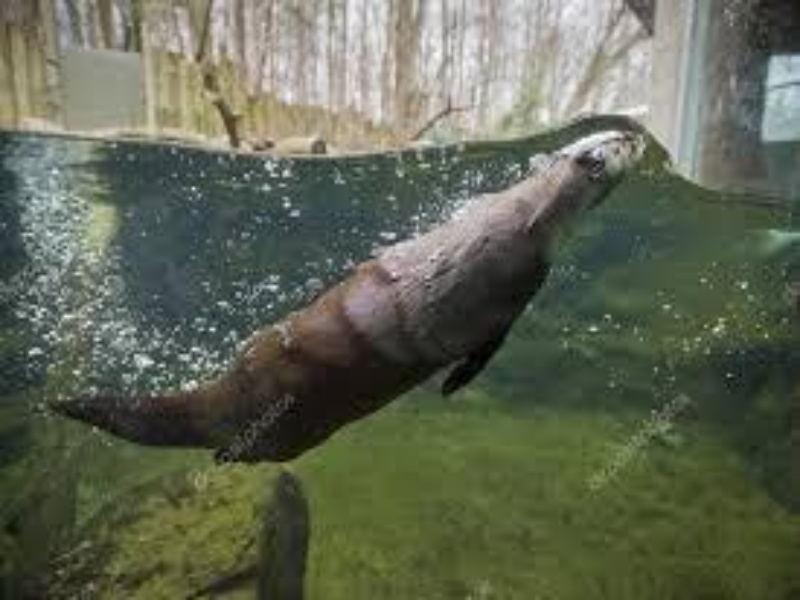minkish: (47, 127, 646, 469)
